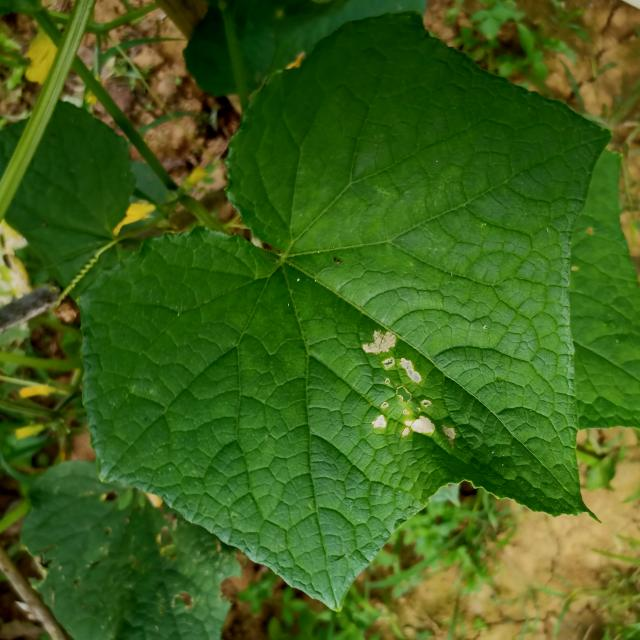disease_cucumber: (352, 314, 460, 450)
